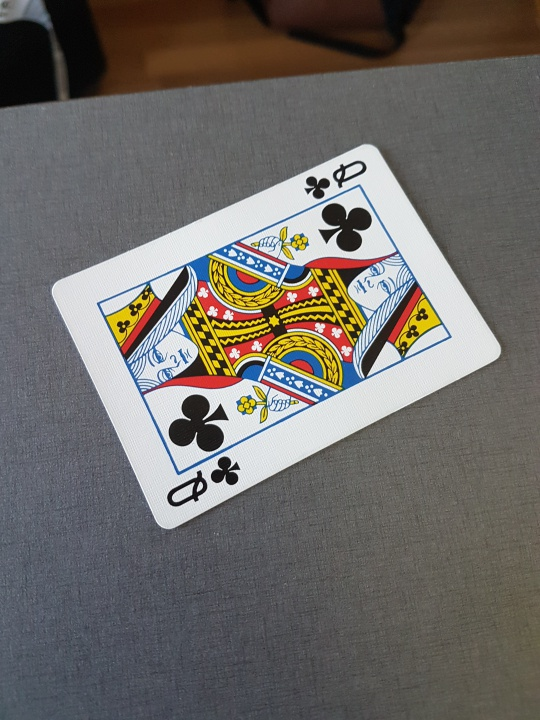queen: (42, 135, 515, 548)
